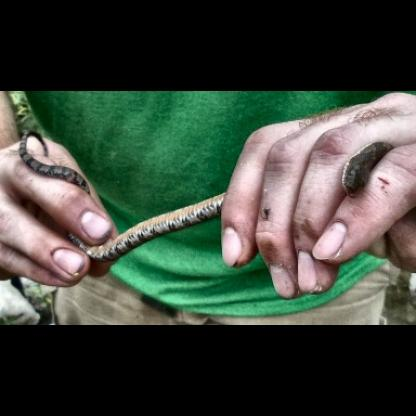Snake: (17, 131, 416, 266)
